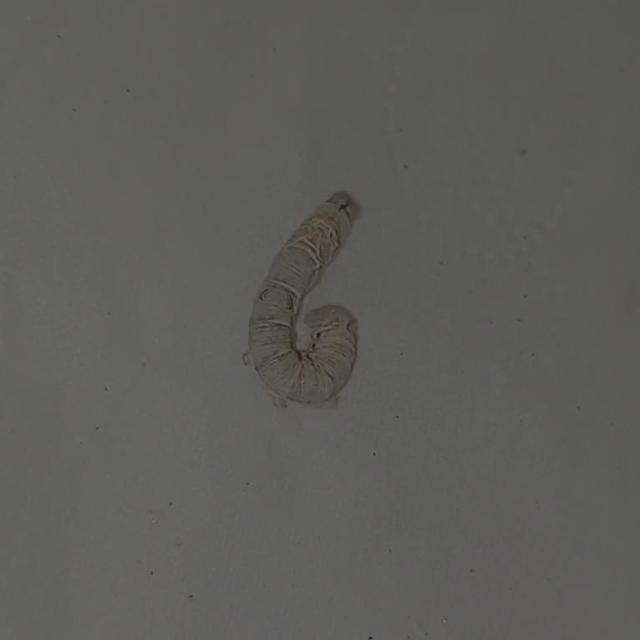Healthy: (229, 158, 372, 437)
